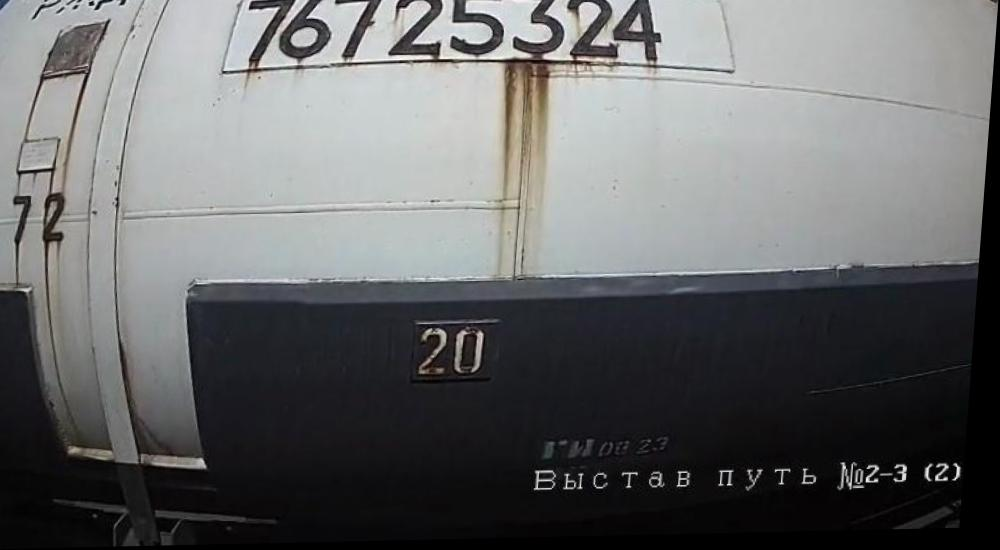Wagon-number: (236, 0, 672, 75)
